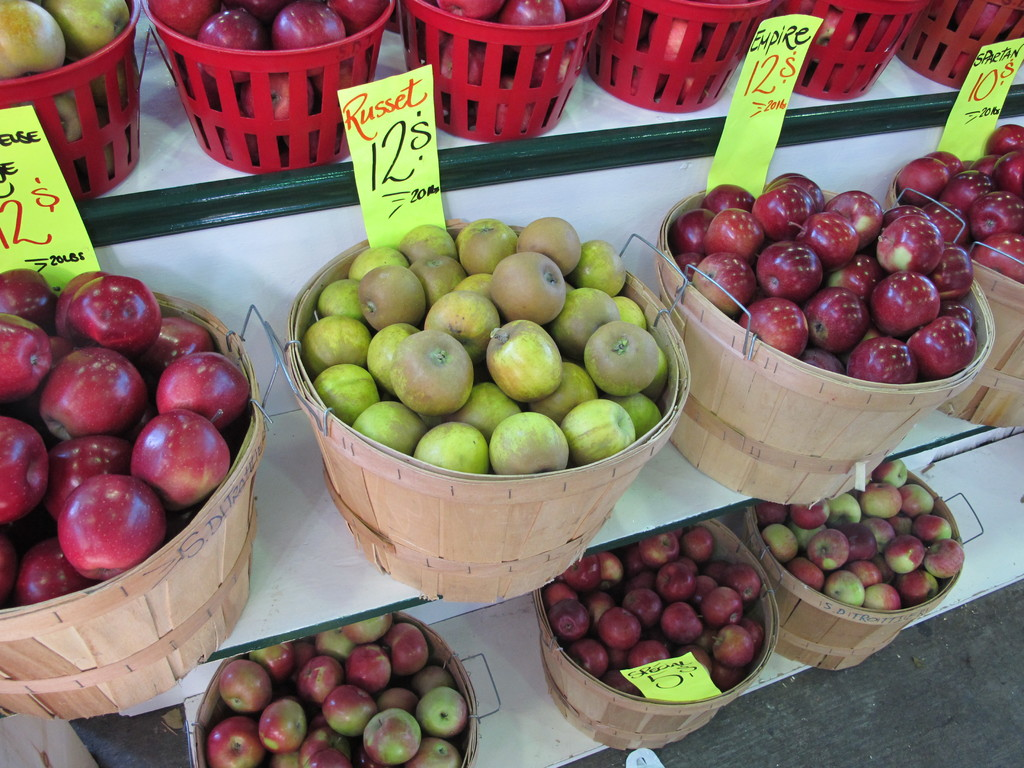Apple: (301, 218, 664, 473), (0, 261, 245, 600), (670, 170, 980, 380), (145, 0, 385, 163), (203, 620, 465, 767), (544, 529, 766, 700), (753, 462, 961, 613), (415, 0, 602, 133), (0, 0, 132, 177), (895, 119, 1023, 285), (593, 0, 771, 103), (44, 475, 152, 579), (788, 0, 912, 85)
